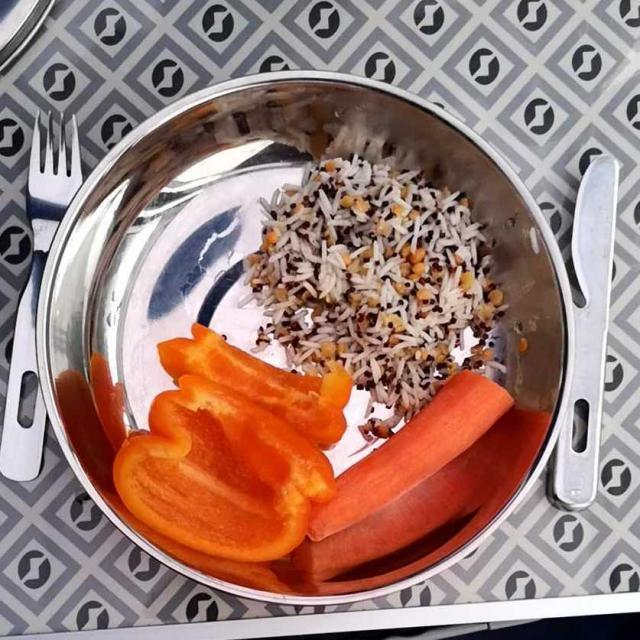bell-pepper: (115, 334, 339, 562)
carrot: (313, 376, 515, 576)
rice-wild: (247, 156, 497, 422)
